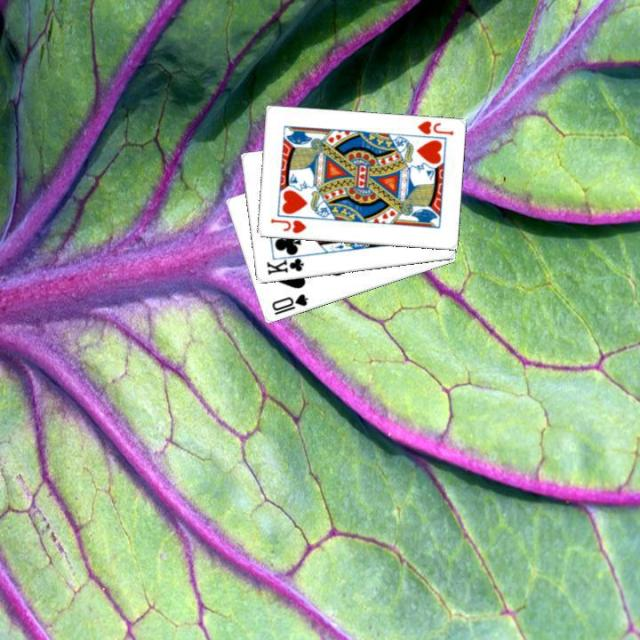10S: (268, 290, 310, 317)
JH: (266, 215, 308, 236), (414, 117, 454, 137)
KC: (262, 250, 308, 276)
